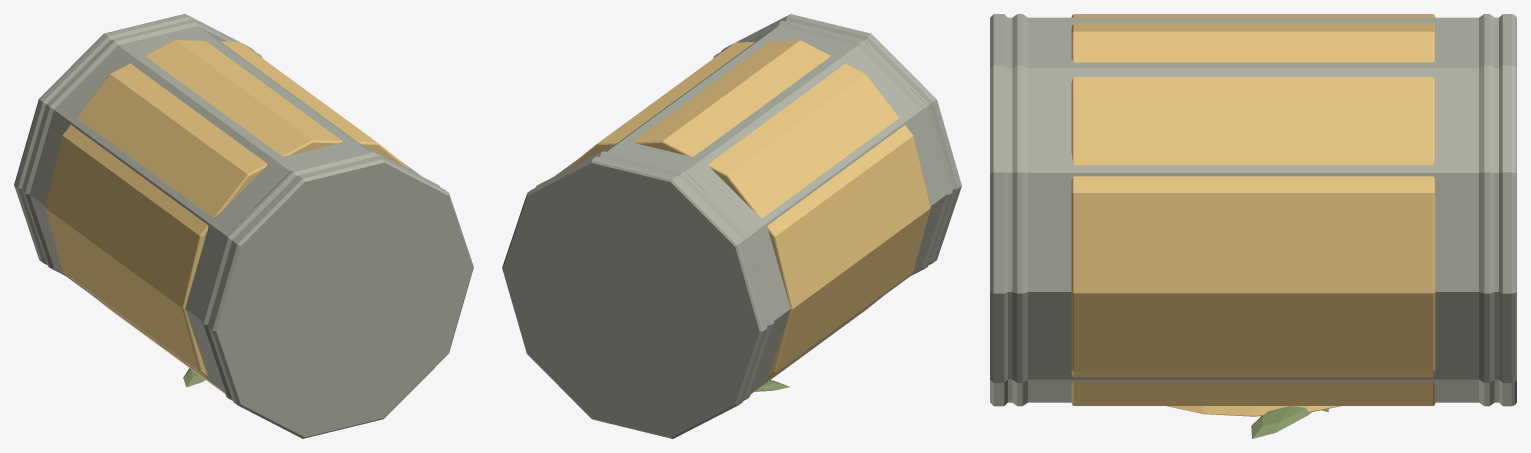
File: canned_corn.glb
The picture shows the model from 3 angles, left to right: view 1: azimuth 30°, elevation 25°; view 2: azimuth 150°, elevation 25°; view 3: azimuth 270°, elevation 25°; orthographic projection. The views are drawn at different scales.
Parts seen in each view (by area): view 1: canned_corn; view 2: canned_corn; view 3: canned_corn.
Part boxes in pixels (left/top/right/bottom): canned_corn: left=14, top=14, right=473, bottom=438; canned_corn: left=502, top=14, right=961, bottom=438; canned_corn: left=990, top=14, right=1516, bottom=438.
Bounding box in the file's own units: 0.075 × 0.0784 × 0.1.
